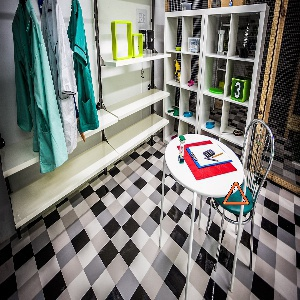triangle: (219, 179, 252, 208)
